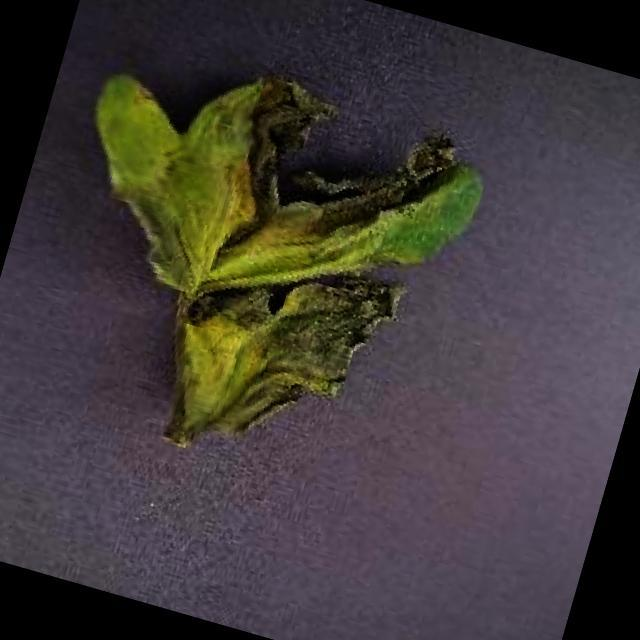Tomato late blight leaf: (9, 18, 498, 495)
